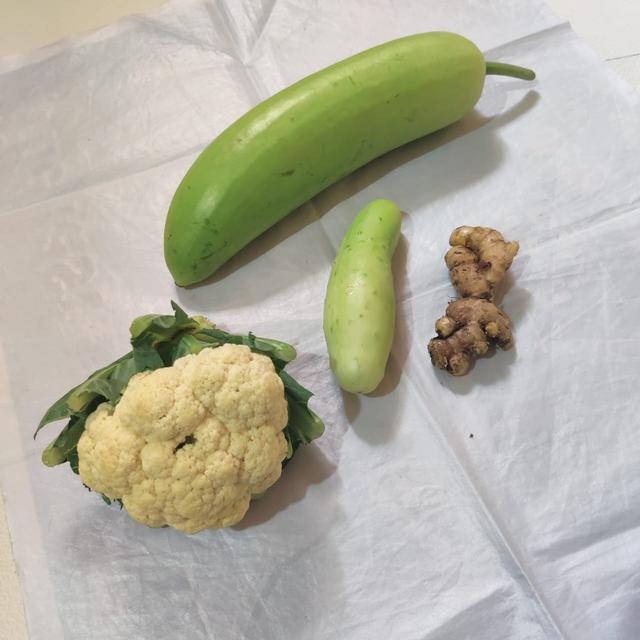Organik: (118, 26, 548, 191), (36, 301, 326, 540), (312, 184, 433, 409), (419, 208, 530, 383)
